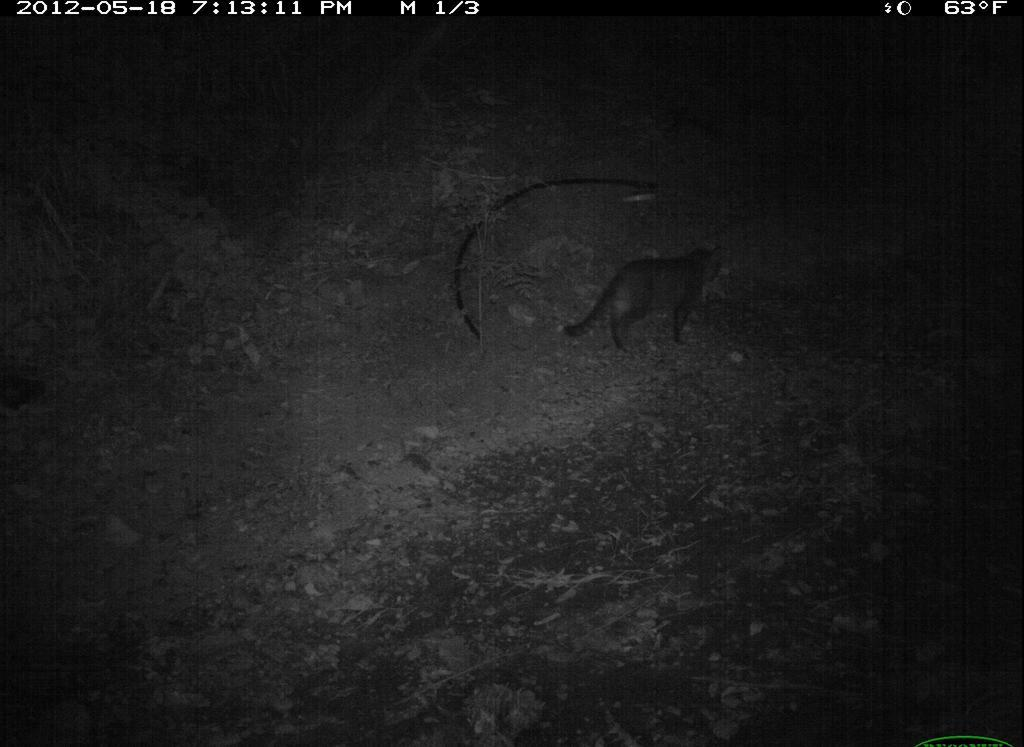cat: (557, 239, 739, 358)
